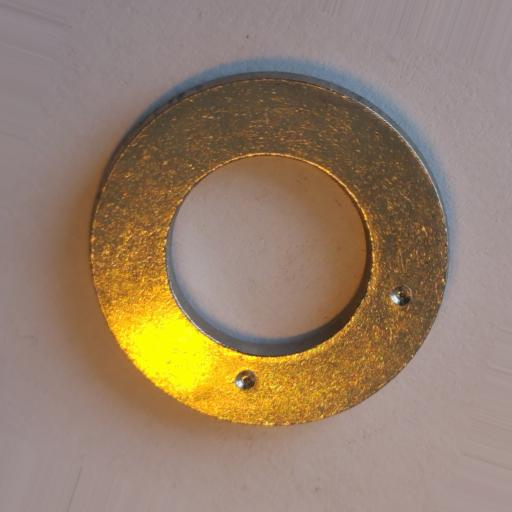circular_cavity: (234, 369, 257, 391), (390, 285, 413, 306)
